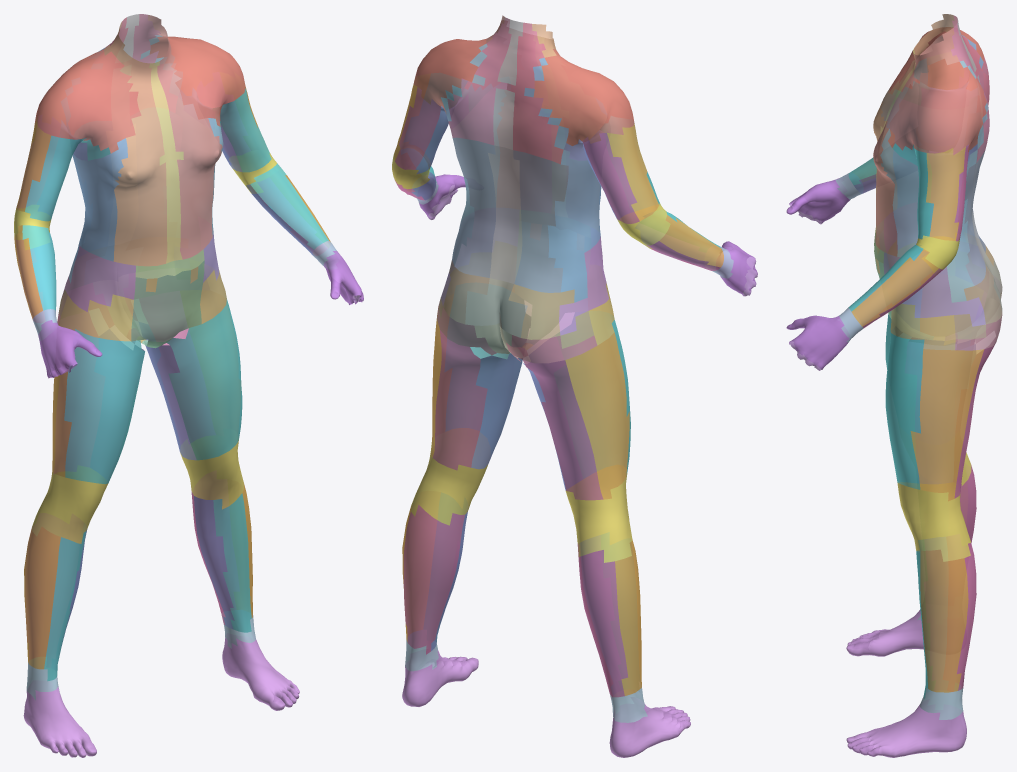
The model's file is neutro_body_v1_body_interaction.glb.
3 renders of one model, left to right at view 1: azimuth 30°, elevation 25°; view 2: azimuth 150°, elevation 25°; view 3: azimuth 270°, elevation 25°, orthographic. The views are drawn at different scales.
Visible parts, largest first — view 1: zone_right_thigh_front, zone_right_chest, zone_left_thigh_front, zone_right_shoulder, zone_left_chest, zone_right_lower_leg_back, zone_left_thigh_back, zone_left_ribs, zone_left_thigh_outer, zone_right_thigh_back, zone_left_shoulder, zone_left_mid_back (+54 smaller); view 2: zone_left_thigh_front, zone_right_thigh_front, zone_left_chest, zone_right_thigh_outer, zone_lower_abdomen, zone_left_lower_leg_back, zone_right_ribs, zone_right_shoulder, zone_left_ribs, zone_left_thigh_back, zone_right_mid_back, zone_left_knee (+50 smaller); view 3: zone_left_thigh_outer, zone_left_shoulder, zone_left_thigh_inner, zone_left_lower_leg_outer, zone_right_ribs, zone_left_thigh_front, zone_left_ribs, zone_left_foot, zone_left_knee, zone_left_lower_leg_back, zone_left_chest, zone_right_thigh_outer (+41 smaller).
Boxes of the visible parts, x1,y1,x2,y2 form: zone_right_thigh_front: [64, 329, 144, 484]; zone_right_chest: [104, 21, 167, 266]; zone_left_thigh_front: [167, 299, 242, 460]; zone_right_shoulder: [34, 49, 141, 153]; zone_left_chest: [148, 15, 222, 259]; zone_right_lower_leg_back: [26, 513, 83, 667]; zone_left_thigh_back: [140, 291, 215, 443]; zone_left_ribs: [140, 35, 223, 251]; zone_left_thigh_outer: [180, 290, 240, 435]; zone_right_thigh_back: [54, 311, 104, 473]; zone_left_shoulder: [149, 36, 245, 126]; zone_left_mid_back: [130, 108, 182, 239]; zone_left_thigh_front: [445, 283, 530, 453]; zone_right_thigh_front: [554, 311, 630, 478]; zone_left_chest: [486, 15, 551, 212]; zone_right_thigh_outer: [565, 332, 629, 499]; zone_lower_abdomen: [515, 221, 590, 344]; zone_left_lower_leg_back: [403, 504, 464, 654]; zone_right_ribs: [524, 57, 606, 302]; zone_right_shoulder: [533, 49, 634, 145]; zone_left_ribs: [441, 43, 510, 265]; zone_left_thigh_back: [433, 330, 487, 470]; zone_right_mid_back: [513, 150, 568, 292]; zone_left_knee: [410, 428, 489, 525]; zone_left_thigh_outer: [910, 349, 984, 501]; zone_left_shoulder: [888, 58, 986, 155]; zone_left_thigh_inner: [905, 342, 975, 483]; zone_left_lower_leg_outer: [920, 549, 968, 692]; zone_right_ribs: [881, 35, 986, 241]; zone_left_thigh_front: [885, 329, 924, 489]; zone_left_ribs: [880, 60, 988, 302]; zone_left_foot: [846, 699, 966, 757]; zone_left_knee: [897, 482, 970, 561]; zone_left_lower_leg_back: [943, 534, 976, 691]; zone_left_chest: [873, 28, 959, 256]; zone_right_thigh_outer: [920, 274, 983, 344].
Bounding box in the file's own units: 0.7372 × 1.54 × 0.4437.
